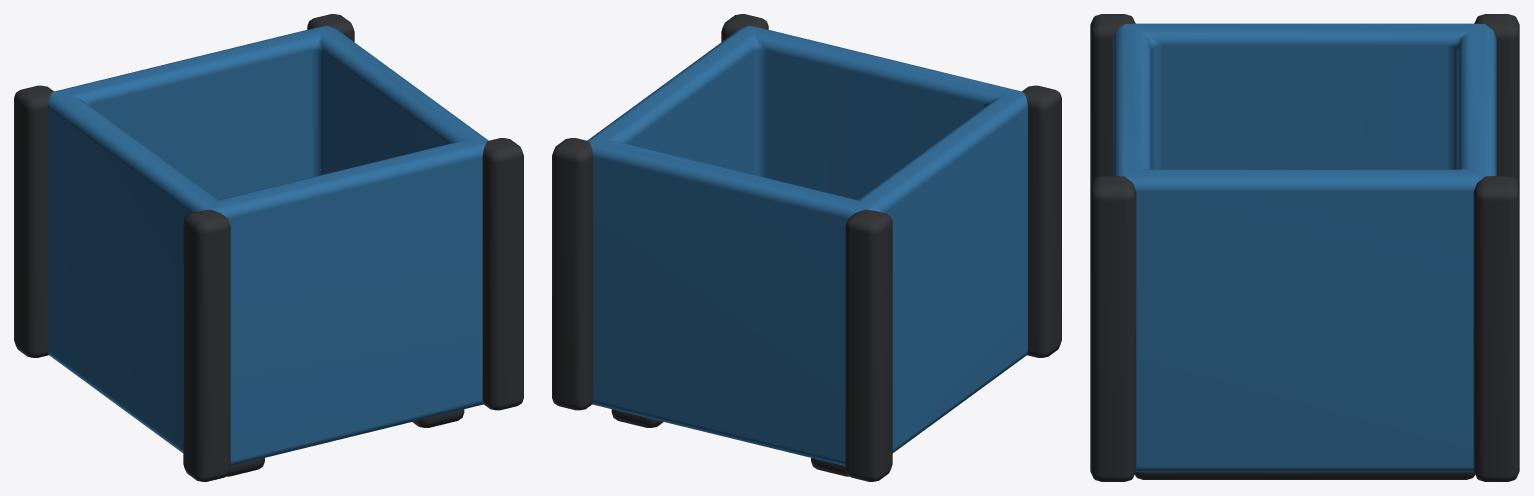
File: container-shell.glb
3 renders of one model, left to right at view 1: azimuth 30°, elevation 25°; view 2: azimuth 150°, elevation 25°; view 3: azimuth 270°, elevation 25°, orthographic. The views are drawn at different scales.
Visible parts, largest first — view 1: container-shell; view 2: container-shell; view 3: container-shell.
Boxes of the visible parts, <box> form: container-shell: <box>14,14,523,481</box>; container-shell: <box>552,14,1061,481</box>; container-shell: <box>1090,14,1519,481</box>.
Bounding box in the file's own units: 1.12 × 0.91 × 1.12.
